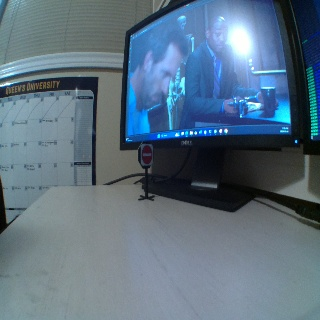sign_noentry: (140, 143, 154, 165)
